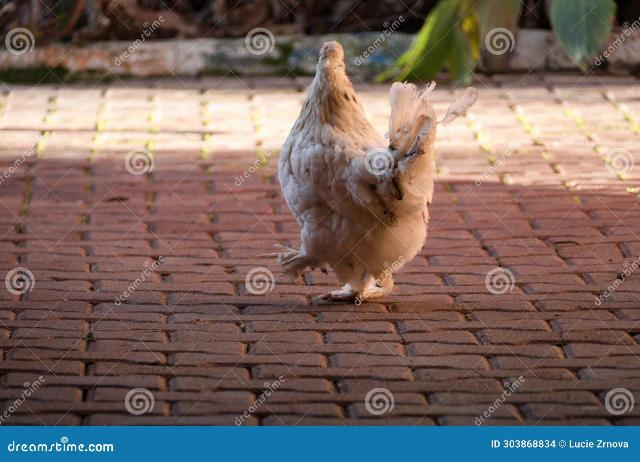Chicken: (277, 41, 437, 306)
